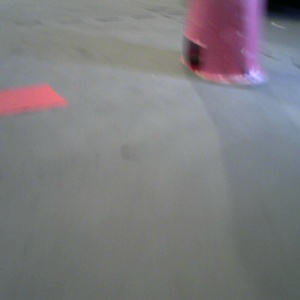right: (179, 1, 267, 84)
